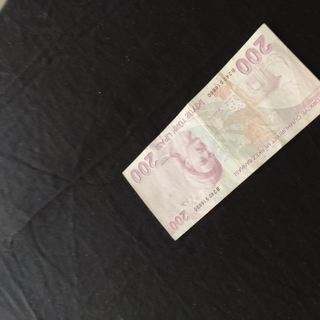200TLBack: (121, 23, 320, 241)
